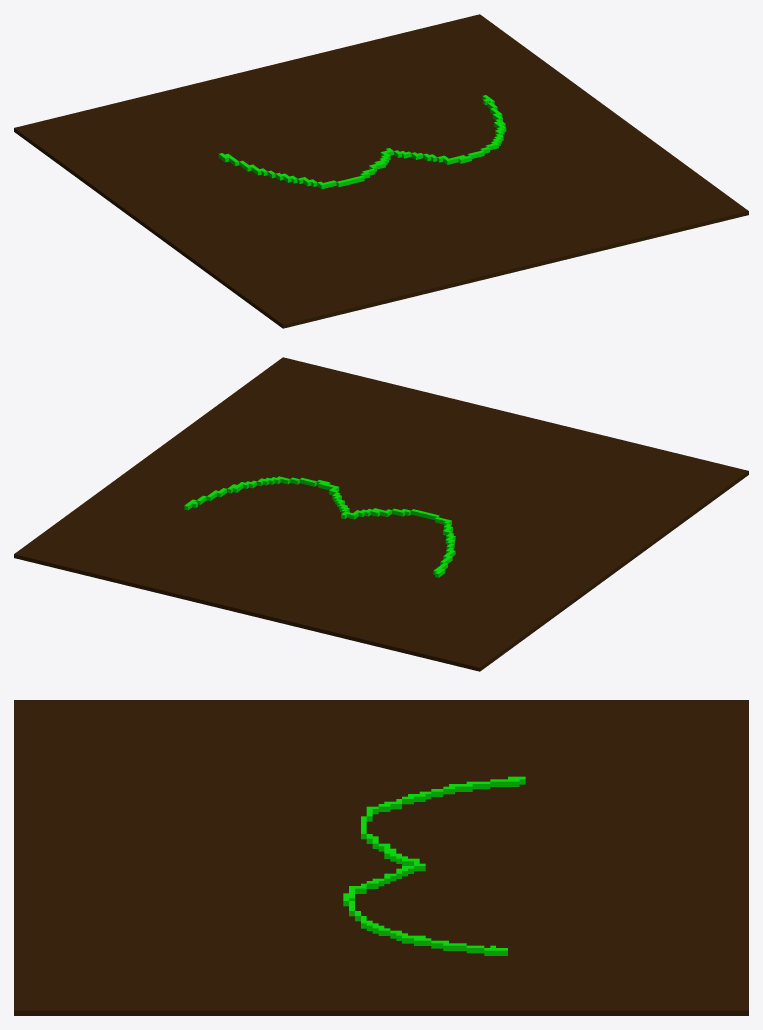
File: Level01-2.obj
3 renders of one model, top to bottom at view 1: azimuth 30°, elevation 25°; view 2: azimuth 150°, elevation 25°; view 3: azimuth 270°, elevation 25°, orthographic. The views are drawn at different scales.
Parts seen in each view (by area): view 1: Level01-2; view 2: Level01-2; view 3: Level01-2.
Part boxes in pixels (<box>): Level01-2: <box>14,14,748,328</box>; Level01-2: <box>14,357,748,671</box>; Level01-2: <box>14,700,748,1015</box>.
Bounding box in the file's own units: 125 × 2 × 125.
Materials: 1 (1 with a texture image).
